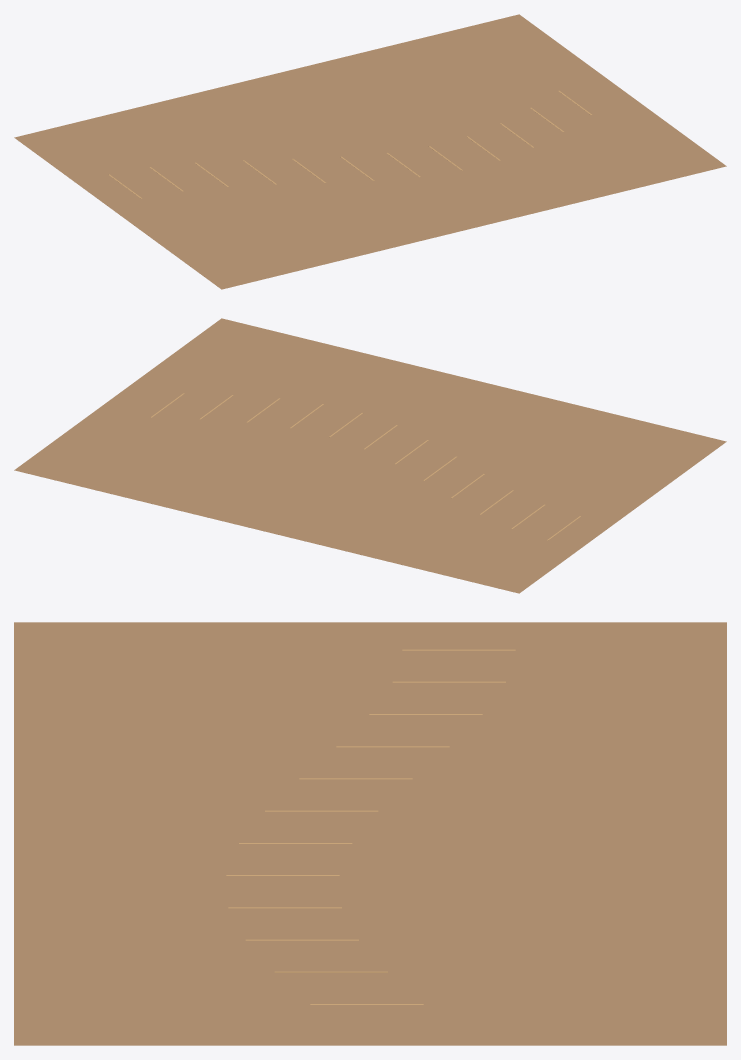
Rendered from 266_L119_L17_LayerReference.glb.
3 views of the same model, one above another, from view 1: azimuth 30°, elevation 25°; view 2: azimuth 150°, elevation 25°; view 3: azimuth 270°, elevation 25° (orthographic). The views are drawn at different scales.
Parts seen in each view (by area): view 1: 0000__PSMAT__copper_dark; view 2: 0000__PSMAT__copper_dark; view 3: 0000__PSMAT__copper_dark.
Part boxes in pixels (<box>): 0000__PSMAT__copper_dark: <box>14,14,726,289</box>; 0000__PSMAT__copper_dark: <box>14,318,726,593</box>; 0000__PSMAT__copper_dark: <box>14,622,726,1045</box>.
Size of the model in its own units: 0.486 by 0.000118 by 0.346.
